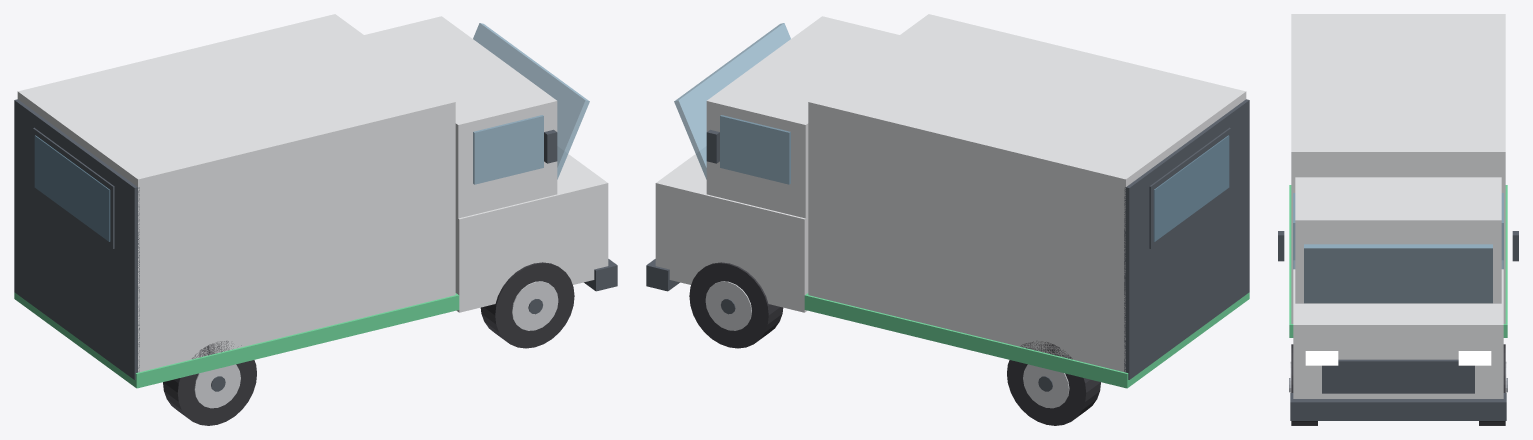
File: van.glb
3 renders of one model, left to right at view 1: azimuth 30°, elevation 25°; view 2: azimuth 150°, elevation 25°; view 3: azimuth 270°, elevation 25°, orthographic. The views are drawn at different scales.
Visible parts, largest first — view 1: van; view 2: van; view 3: van.
Part boxes in pixels (x1,y1,x2,y2): van: (14,14,617,425); van: (646,14,1249,425); van: (1278,14,1518,425).
Bounding box in the file's own units: 4.89 × 2.55 × 2.36.
